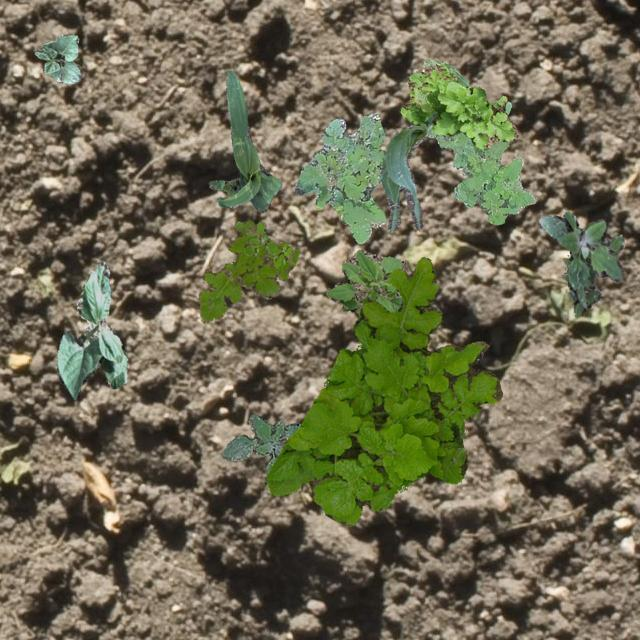crop: (208, 68, 280, 212), (56, 261, 126, 398), (376, 110, 436, 232), (34, 34, 80, 82)
weed: (263, 256, 502, 524), (422, 58, 534, 224), (294, 111, 386, 242), (198, 218, 298, 322), (400, 63, 518, 148), (538, 210, 622, 316), (324, 248, 410, 314), (220, 412, 300, 474), (242, 220, 292, 266)
